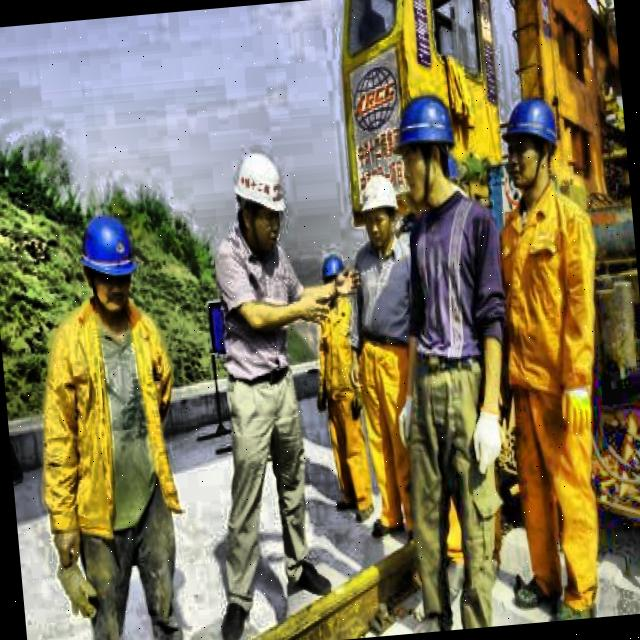helmet: (386, 86, 466, 210), (224, 137, 292, 260), (74, 204, 142, 322), (494, 90, 566, 196), (353, 169, 405, 251), (315, 246, 350, 302)
